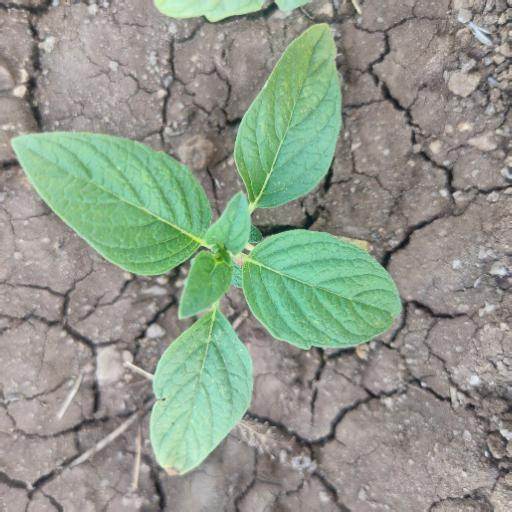crop: (5, 19, 425, 469)
